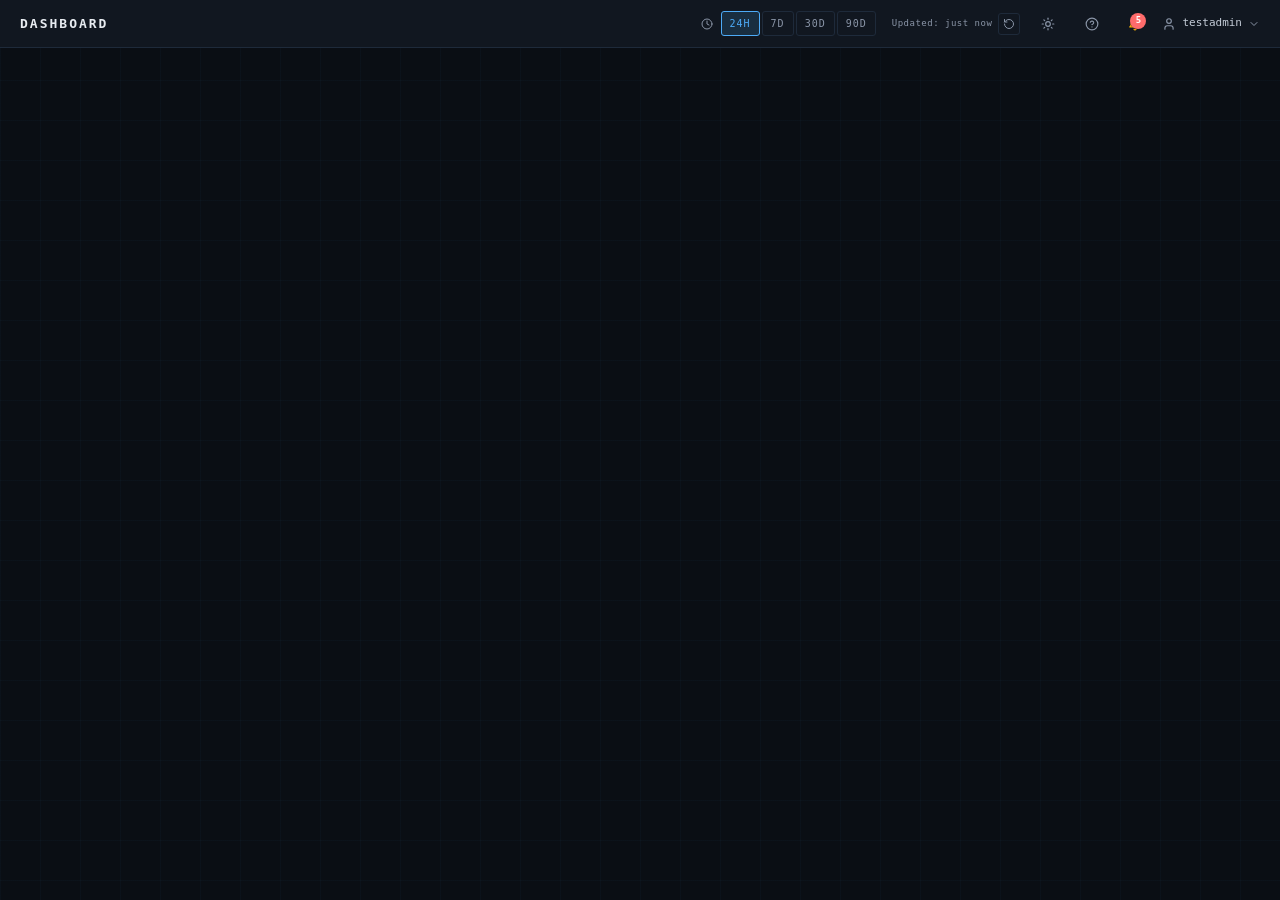
Test: Header › opens user dropdown menu on click
Click the button with aria-label "User menu".
click(1211, 24)  # box [1162,15,1260,32]
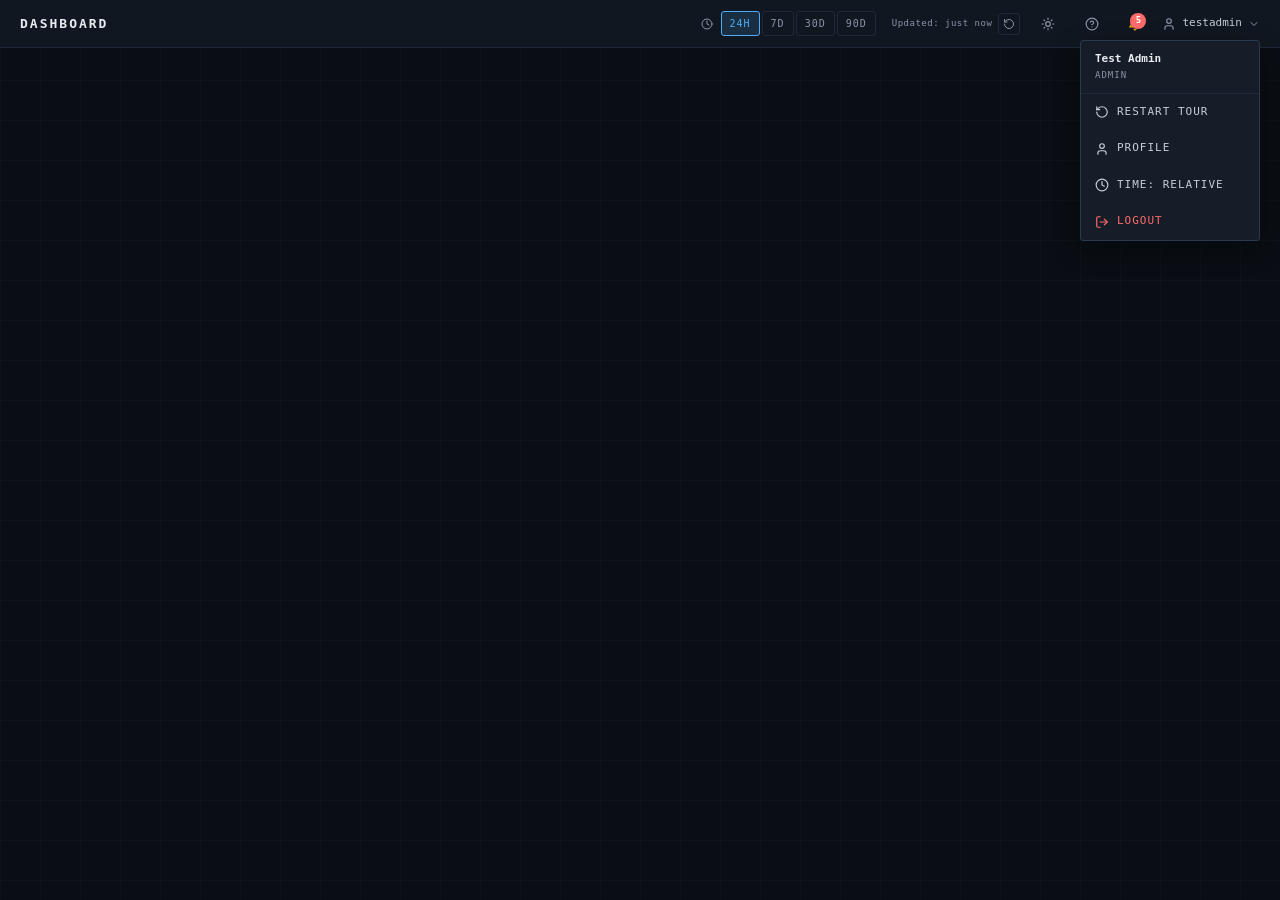
expect the menu is shown: met, box [1080,40,1260,241]
